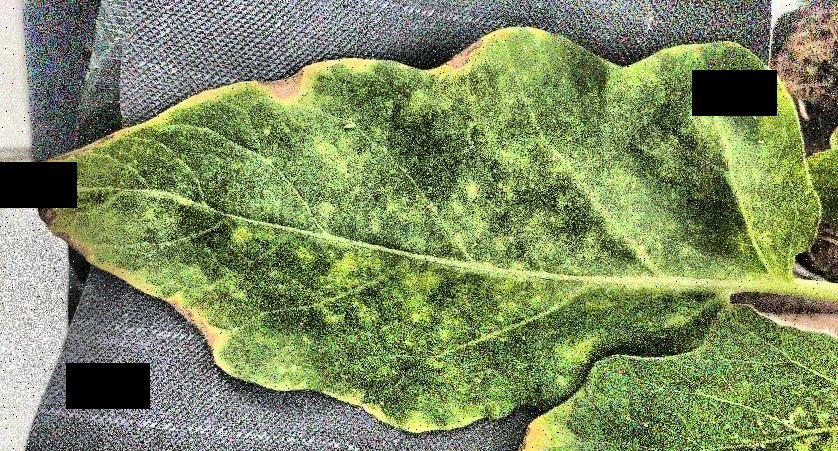Non-critical Stress: (0, 1, 838, 451)
